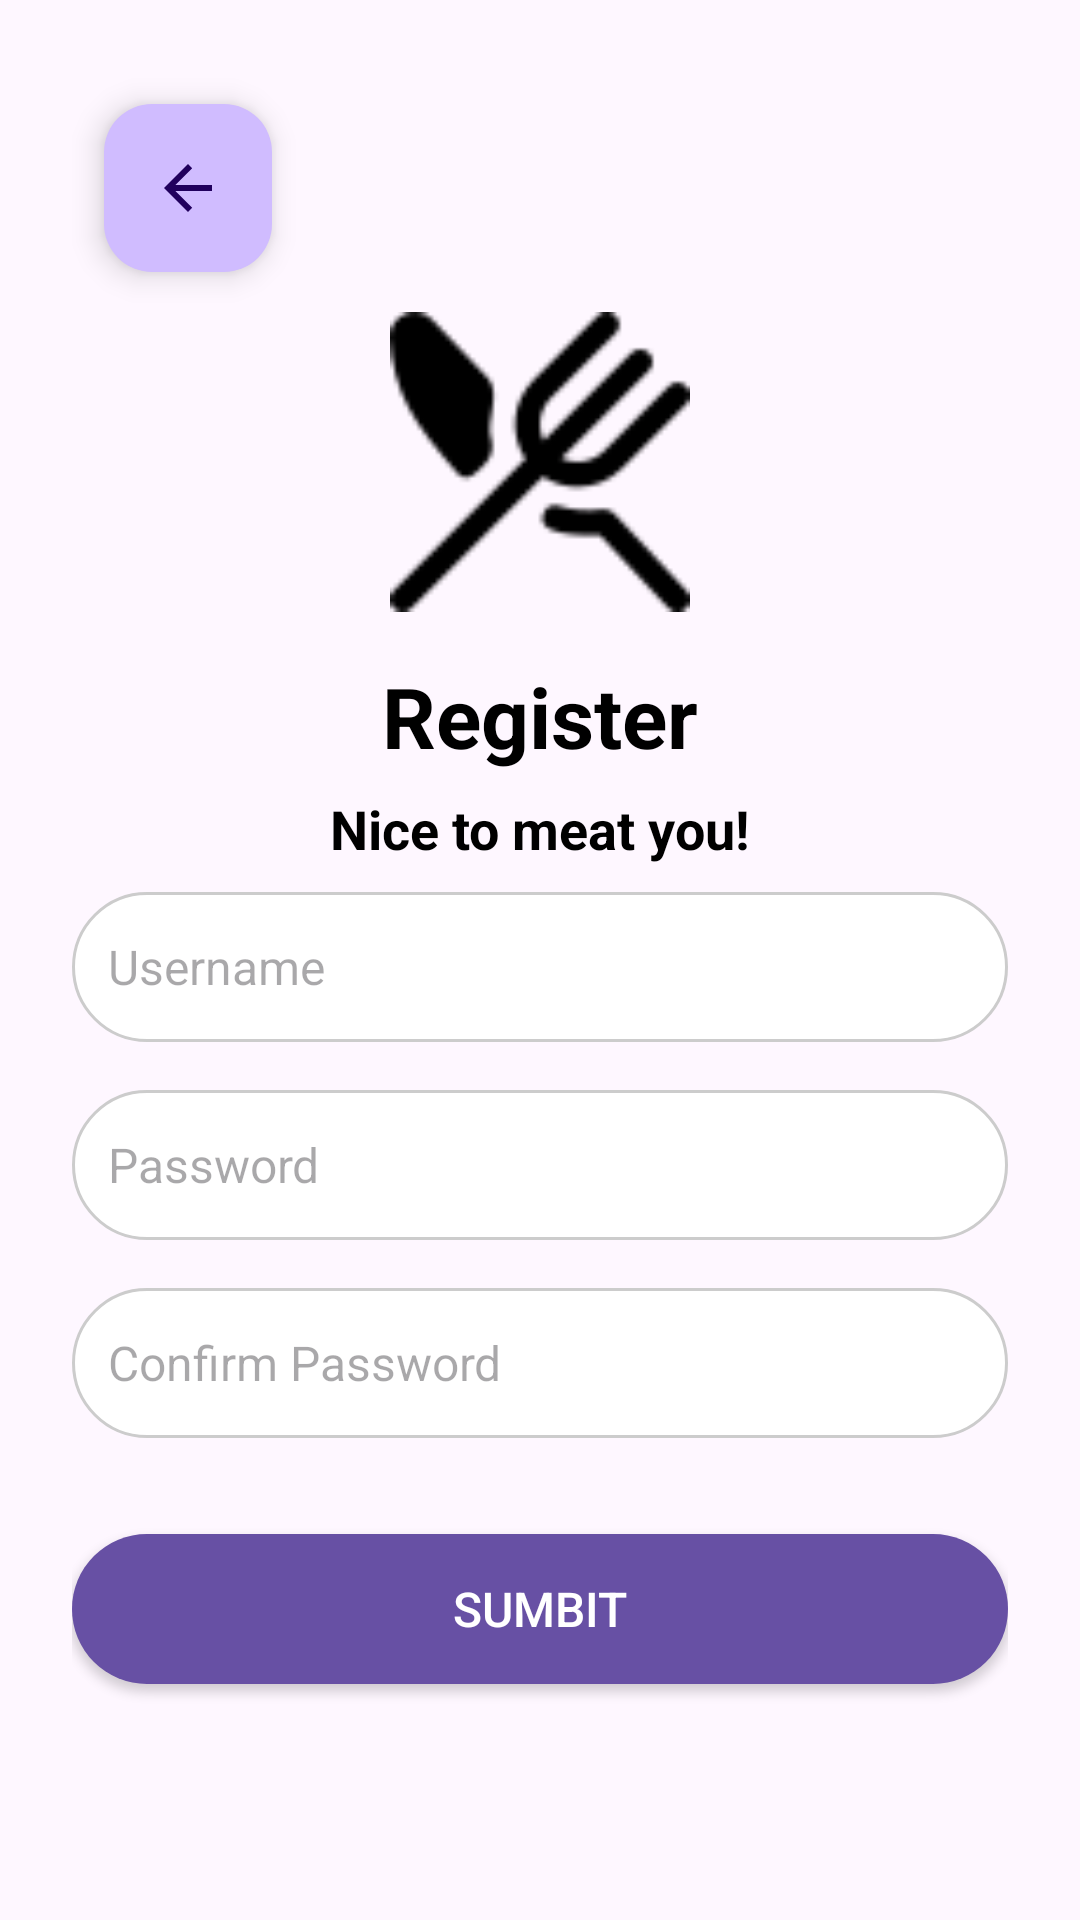

Named icons in this screenshot (1080w x 1920h) and their centers, [x,y]:
Go Back: [188,188]
